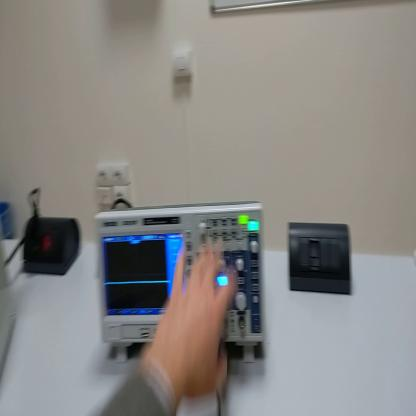hand: (154, 238, 238, 399)
oscilloscope: (84, 202, 264, 370)
power supply: (1, 246, 21, 380)
socket: (22, 218, 80, 279)
